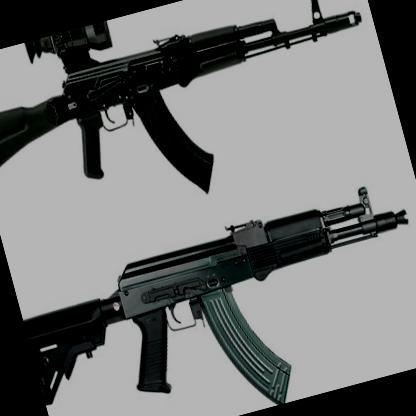rifle: (9, 165, 416, 416), (0, 0, 399, 253)
